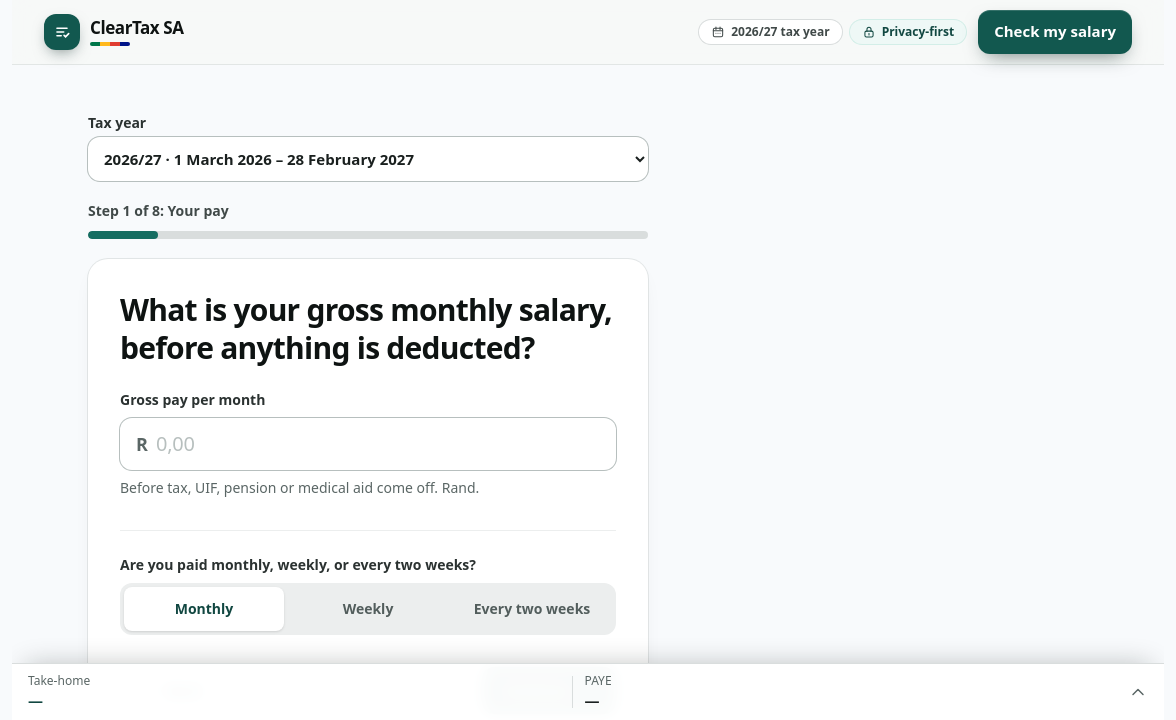
Test case: inside the wizard › has the preview from the amount question onward, empty at first, filled once you type
Expected: the heading is shown, [120,291,616,366]
In the field labelled "Gross pay per month": (382, 444) [148,418,616,470], type "30000"
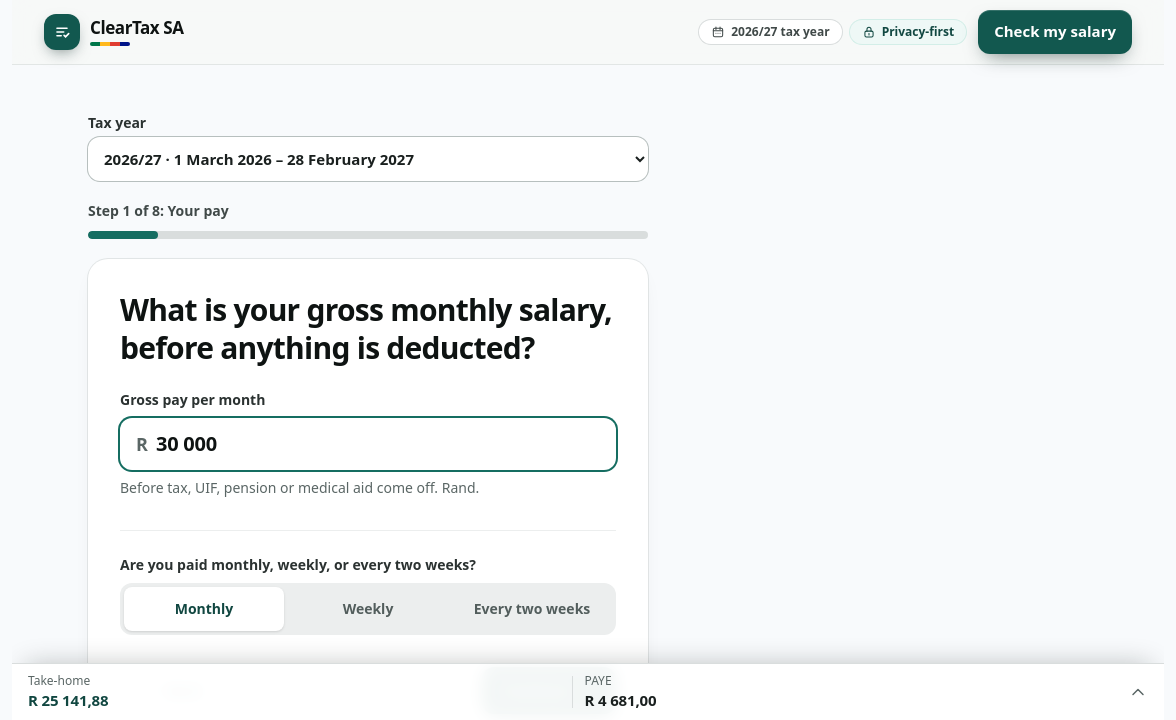
Expected: the button "Take-home R 25 141,88 PAYE R 4 681,00" is shown, [12,664,1164,719]
